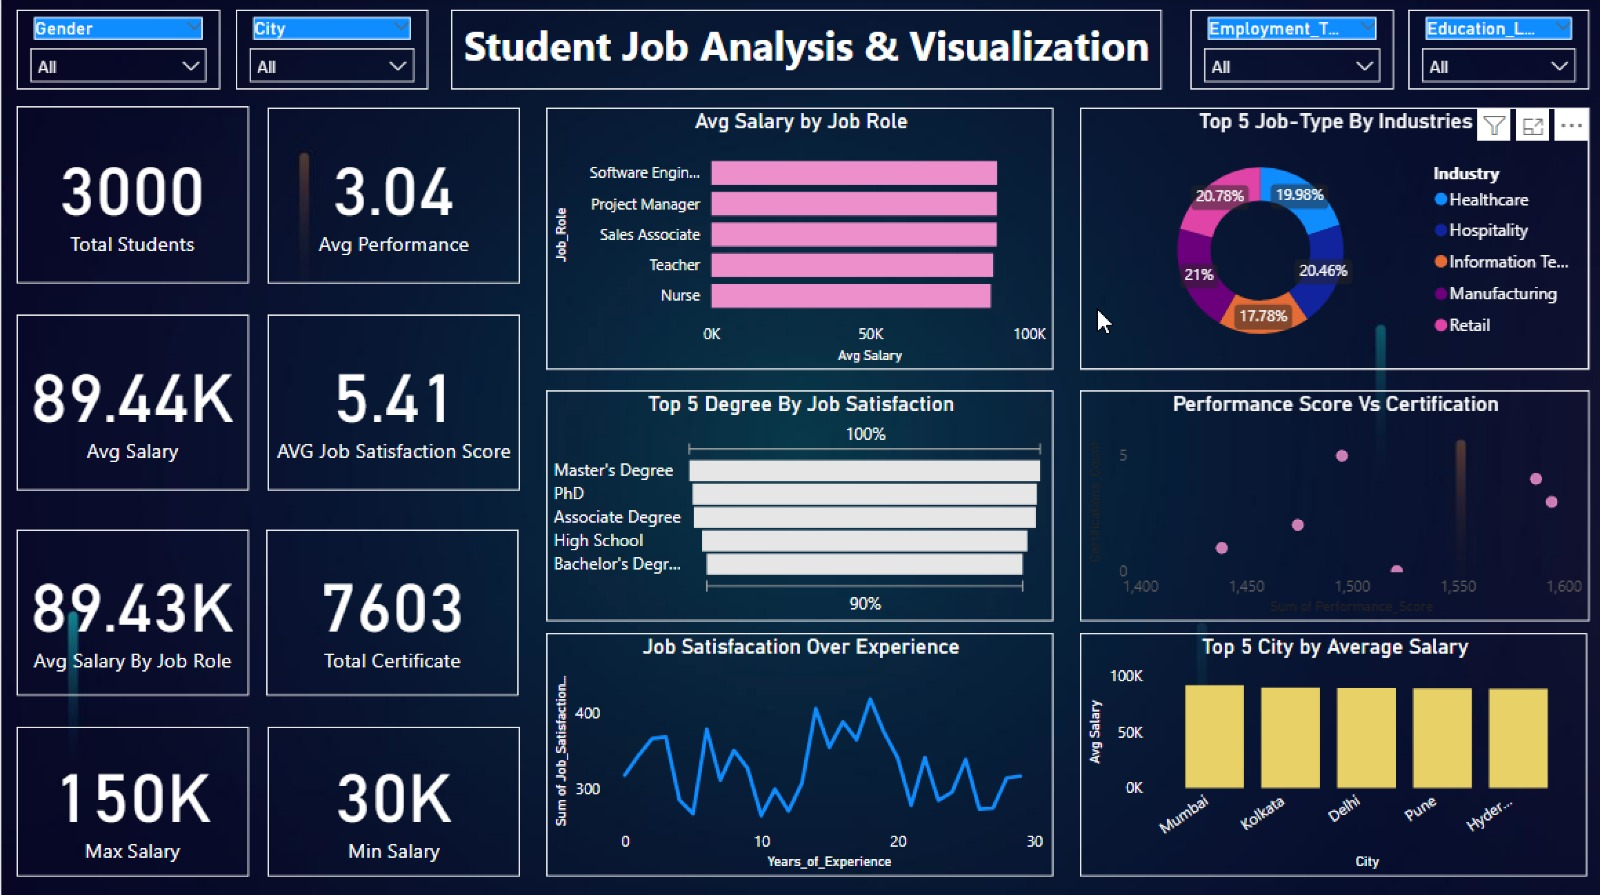

The page's visual inventory and layout, read from the dashboard file:
{"tool":"powerbi","page":{"name":"Page 1","canvas":[1280,720],"ordinal":0},"visuals":[{"type":"card","fields":{"Values":["StudentsJobs.Total Students"]},"box":[12.1,86.1,185.5,142.5],"z":0},{"type":"textbox","box":[360.2,8.7,569.4,64.4],"z":1000},{"type":"card","fields":{"Values":["StudentsJobs.Min Salary"]},"box":[213.1,583.1,202.1,120.4],"z":2000},{"type":"card","fields":{"Values":["StudentsJobs.Max Salary"]},"box":[12.1,583.1,185.5,120.4],"z":3000},{"type":"card","fields":{"Values":["StudentsJobs.Avg Performance"]},"box":[213.1,87.2,202.1,141.3],"z":4000},{"type":"card","fields":{"Values":["StudentsJobs.Total Certificate"]},"box":[212,425.2,202.1,132.5],"z":5000},{"type":"card","fields":{"Values":["StudentsJobs.Avg Salary By Job Role"]},"box":[12.1,425.2,185.5,132.5],"z":6000},{"type":"card","fields":{"Values":["StudentsJobs.Avg Salary"]},"box":[12.1,252.9,185.5,141.3],"z":7000},{"type":"card","fields":{"Values":["StudentsJobs.AVG Job Satisfaction Score"]},"box":[213.1,252.9,202.1,141.3],"z":8000},{"type":"slicer","fields":{"Values":["StudentsJobs.Gender"]},"box":[12.4,8.7,163.4,64.4],"z":9000},{"type":"slicer","fields":{"Values":["StudentsJobs.Employment_Type"]},"box":[952,8.7,163.4,64.4],"z":10000},{"type":"slicer","fields":{"Values":["StudentsJobs.Education_Level"]},"box":[1126.5,8.7,144.8,64.4],"z":11000},{"type":"slicer","fields":{"Values":["StudentsJobs.City"]},"box":[188.2,8.7,153.5,64.4],"z":12000},{"type":"barChart","title":"Avg Salary by Job Role","fields":{"Y":["StudentsJobs.Avg Salary"],"Category":["StudentsJobs.Job_Role"]},"box":[436,87.2,406.5,209.9],"z":13000},{"type":"lineChart","title":"Job Satisfacation Over Experience ","fields":{"Y":["Sum(StudentsJobs.Job_Satisfaction_Score)"],"Category":["StudentsJobs.Years_of_Experience"]},"box":[436,508.5,406.5,195.1],"z":14000},{"type":"donutChart","title":"Top 5  Job-Type By Industries","fields":{"Y":["CountNonNull(StudentsJobs.Job_Role)"],"Series":["StudentsJobs.Industry"]},"box":[863.2,87.2,407.9,209.9],"z":15000},{"type":"clusteredColumnChart","title":"Top 5 City  by Average Salary","fields":{"Y":["StudentsJobs.Avg Salary"],"Category":["StudentsJobs.City"]},"box":[863.2,508.5,406.5,195.1],"z":16000},{"type":"funnel","title":"Top 5 Degree By Job Satisfaction","fields":{"Category":["StudentsJobs.Education_Level"],"Y":["Sum(StudentsJobs.Job_Satisfaction_Score)"]},"box":[436,313.3,406.5,184.8],"z":17000},{"type":"scatterChart","title":"Performance Score Vs Certification","fields":{"X":["Sum(StudentsJobs.Performance_Score)"],"Y":["StudentsJobs.Certifications_Count"]},"box":[863.2,313.3,407.9,184.8],"z":18000}]}

Visuals, with their boxes in screenshot pixels (x1, y1, x2, y2), scaled from the page's 1280x720 canvas onto the 1600x895 screenshot:
card - StudentsJobs.Total Students: <bbox>15, 107, 247, 284</bbox>
textbox: <bbox>450, 11, 1162, 91</bbox>
card - StudentsJobs.Min Salary: <bbox>266, 725, 519, 874</bbox>
card - StudentsJobs.Max Salary: <bbox>15, 725, 247, 874</bbox>
card - StudentsJobs.Avg Performance: <bbox>266, 108, 519, 284</bbox>
card - StudentsJobs.Total Certificate: <bbox>265, 529, 518, 693</bbox>
card - StudentsJobs.Avg Salary By Job Role: <bbox>15, 529, 247, 693</bbox>
card - StudentsJobs.Avg Salary: <bbox>15, 314, 247, 490</bbox>
card - StudentsJobs.AVG Job Satisfaction Score: <bbox>266, 314, 519, 490</bbox>
slicer - StudentsJobs.Gender: <bbox>16, 11, 220, 91</bbox>
slicer - StudentsJobs.Employment_Type: <bbox>1190, 11, 1394, 91</bbox>
slicer - StudentsJobs.Education_Level: <bbox>1408, 11, 1589, 91</bbox>
slicer - StudentsJobs.City: <bbox>235, 11, 427, 91</bbox>
"Avg Salary by Job Role" barChart: <bbox>545, 108, 1053, 369</bbox>
"Job Satisfacation Over Experience " lineChart: <bbox>545, 632, 1053, 875</bbox>
"Top 5  Job-Type By Industries" donutChart: <bbox>1079, 108, 1589, 369</bbox>
"Top 5 City  by Average Salary" clusteredColumnChart: <bbox>1079, 632, 1587, 875</bbox>
"Top 5 Degree By Job Satisfaction" funnel: <bbox>545, 389, 1053, 619</bbox>
"Performance Score Vs Certification" scatterChart: <bbox>1079, 389, 1589, 619</bbox>
